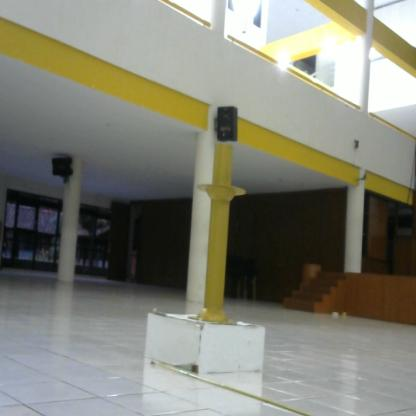pole: (189, 147, 251, 332)
